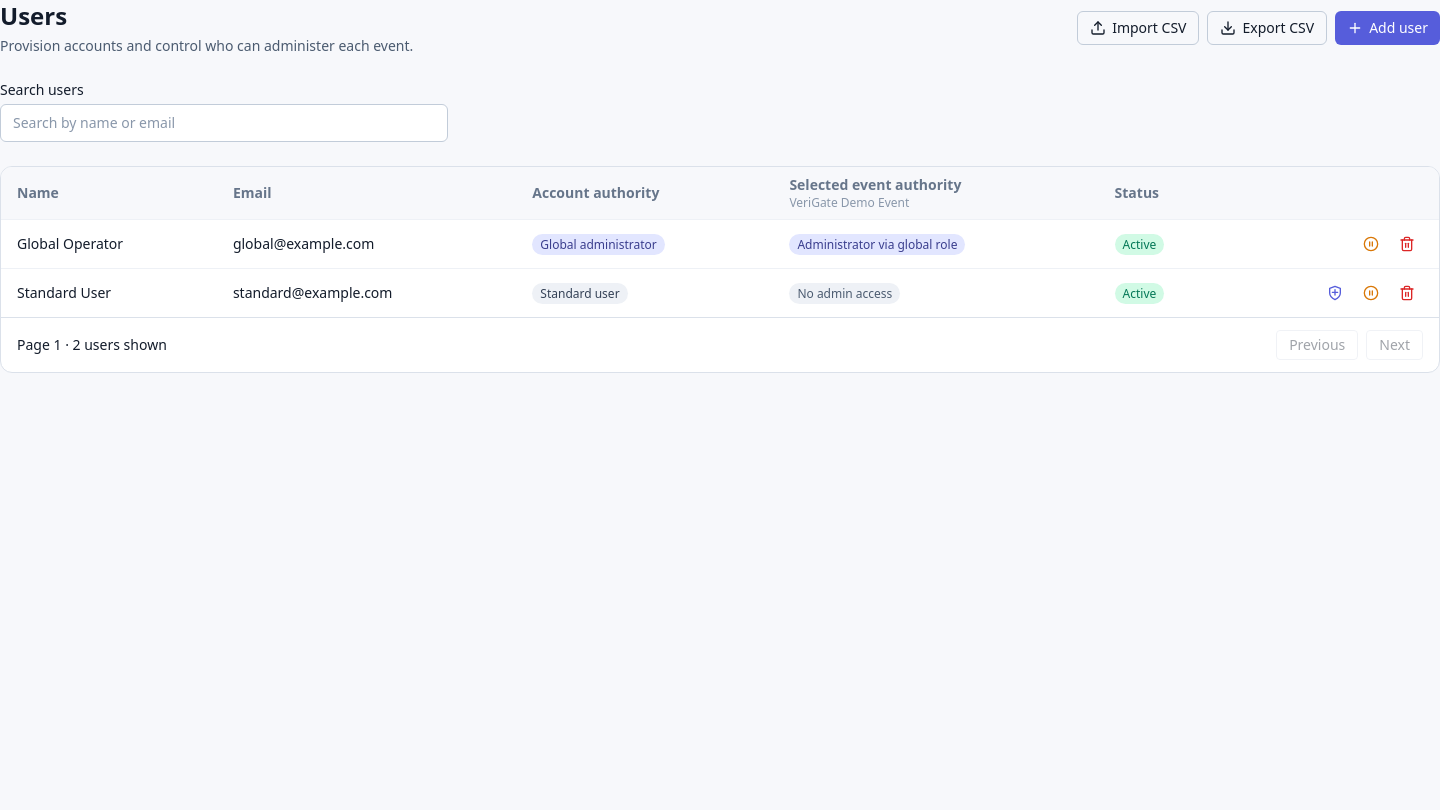
Test: event administration membership management › grants event-administrator membership to an eligible active user
Expected: the text "No admin access" is shown, left=789, top=283, right=900, bottom=304
Click the button named "manage standard user event administrator access": (1335, 293) left=1319, top=277, right=1351, bottom=309
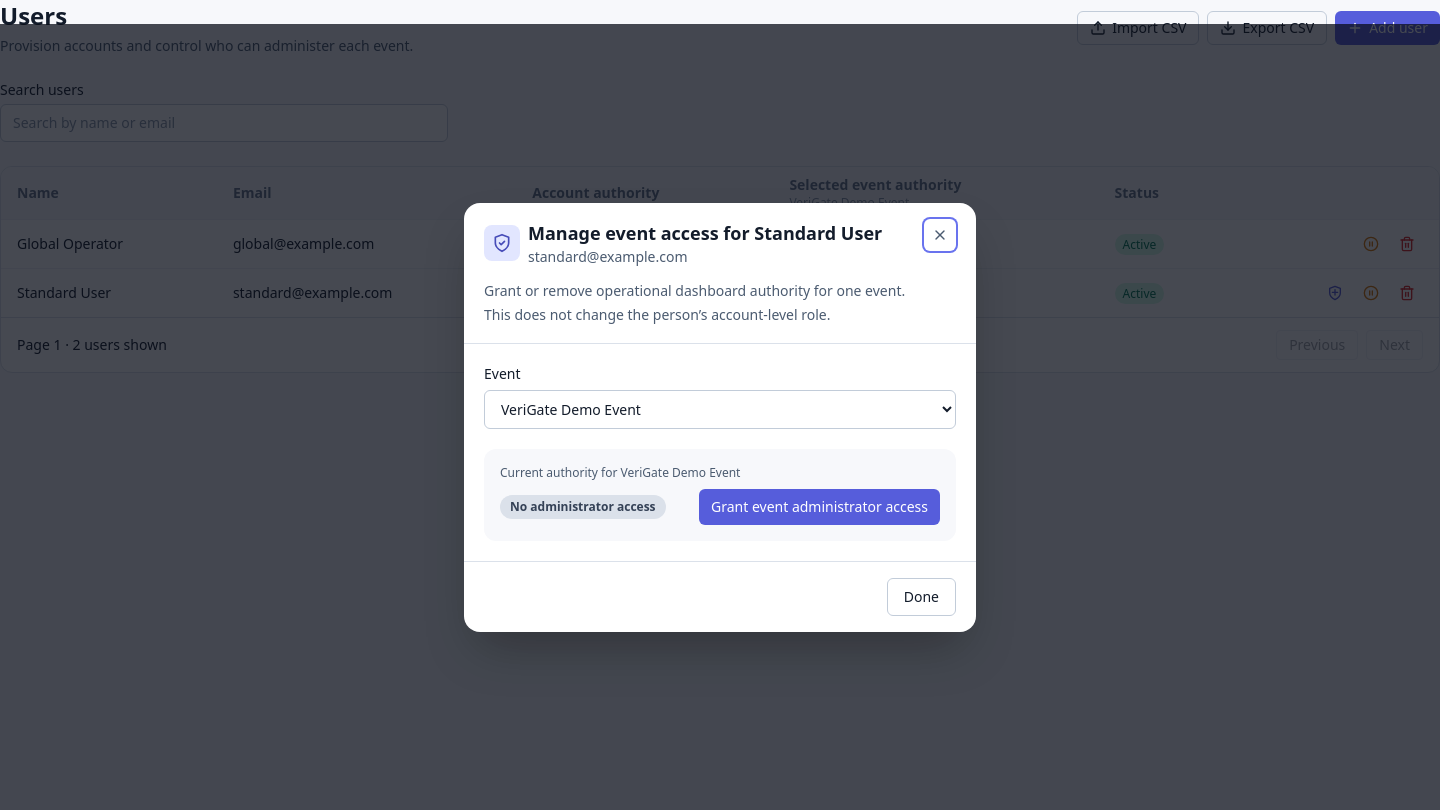
Click the button "Grant event administrator access": (820, 506) left=699, top=488, right=940, bottom=524
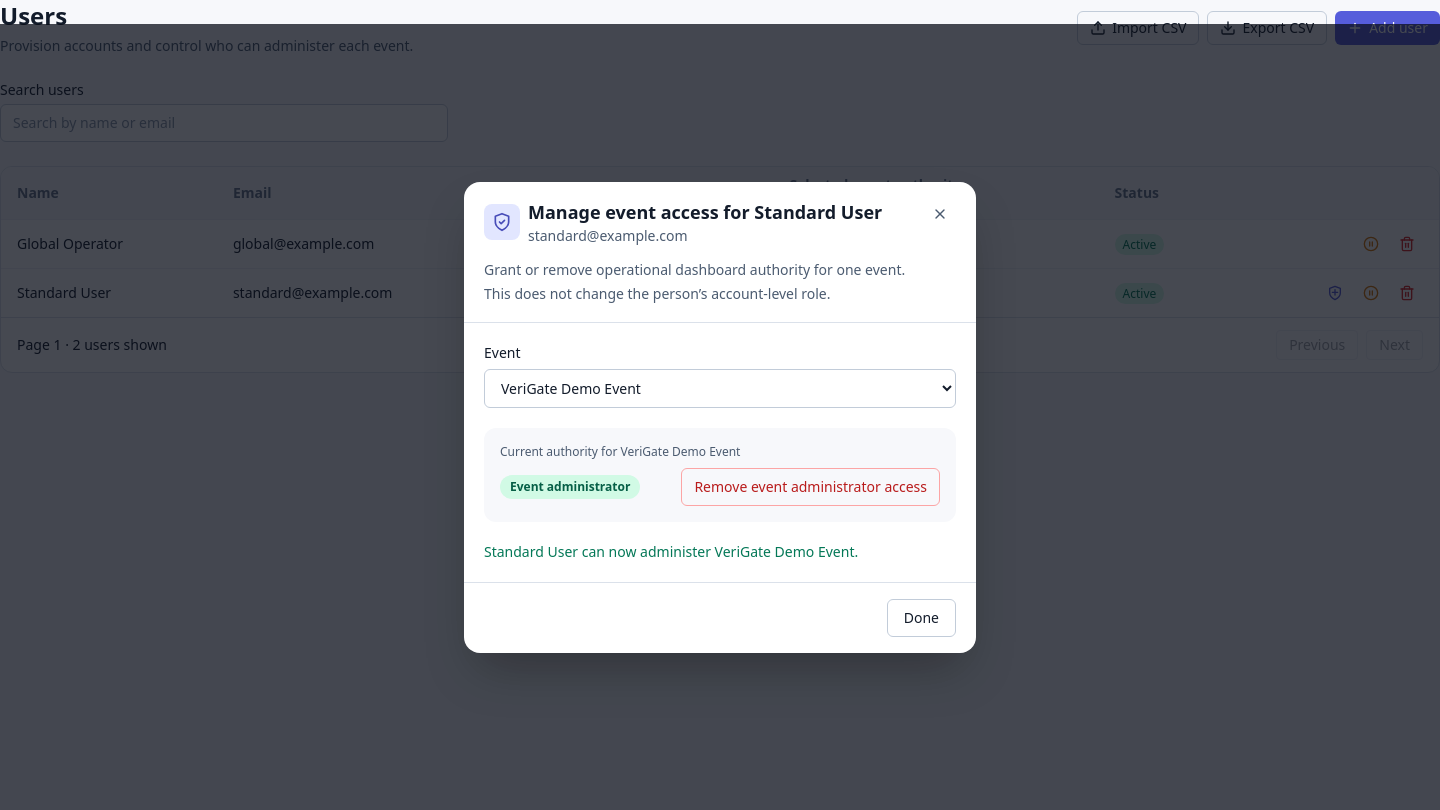
Expected: the message shows "Standard User can now administer VeriGate Demo Event", left=484, top=542, right=858, bottom=560
Expected: the text "Event administrator" below "Global administrator" is shown, left=797, top=285, right=909, bottom=302
